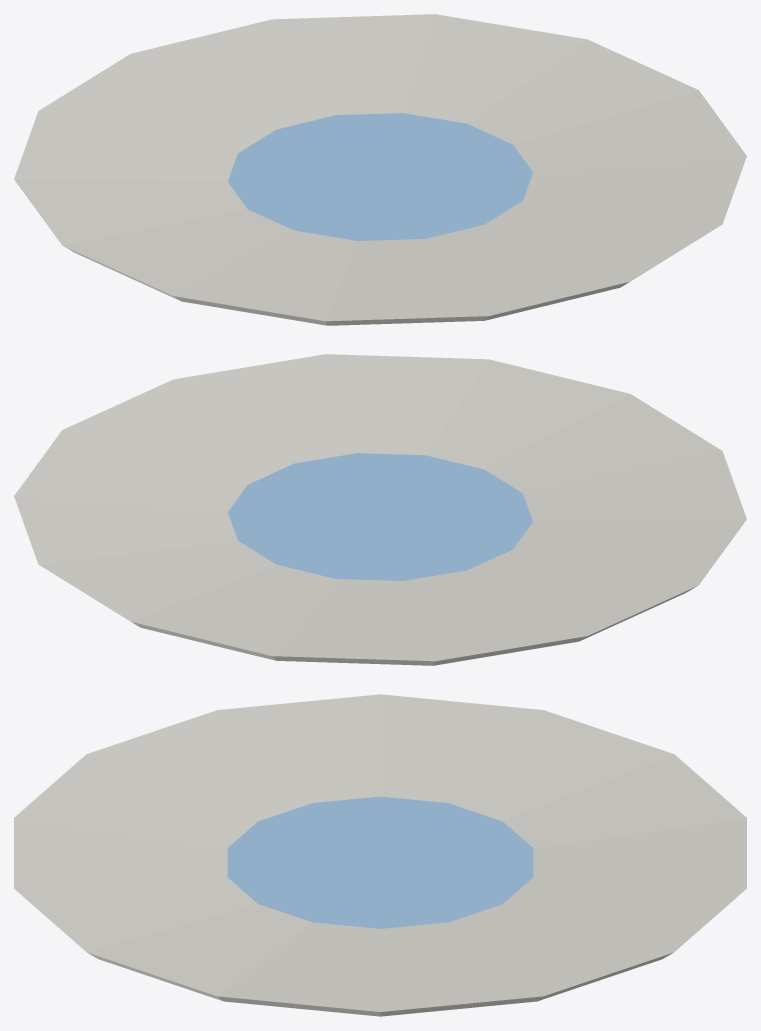
The model's file is plate.fbx.
3 renders of one model, top to bottom at view 1: azimuth 30°, elevation 25°; view 2: azimuth 150°, elevation 25°; view 3: azimuth 270°, elevation 25°, orthographic. The views are drawn at different scales.
Parts seen in each view (by area): view 1: plate; view 2: plate; view 3: plate.
Part boxes in pixels (bbox=[...]): plate: bbox=[14, 14, 746, 325]; plate: bbox=[14, 354, 746, 665]; plate: bbox=[14, 694, 746, 1016].
Bounding box in the file's own units: 1 × 0.076 × 0.9749.
